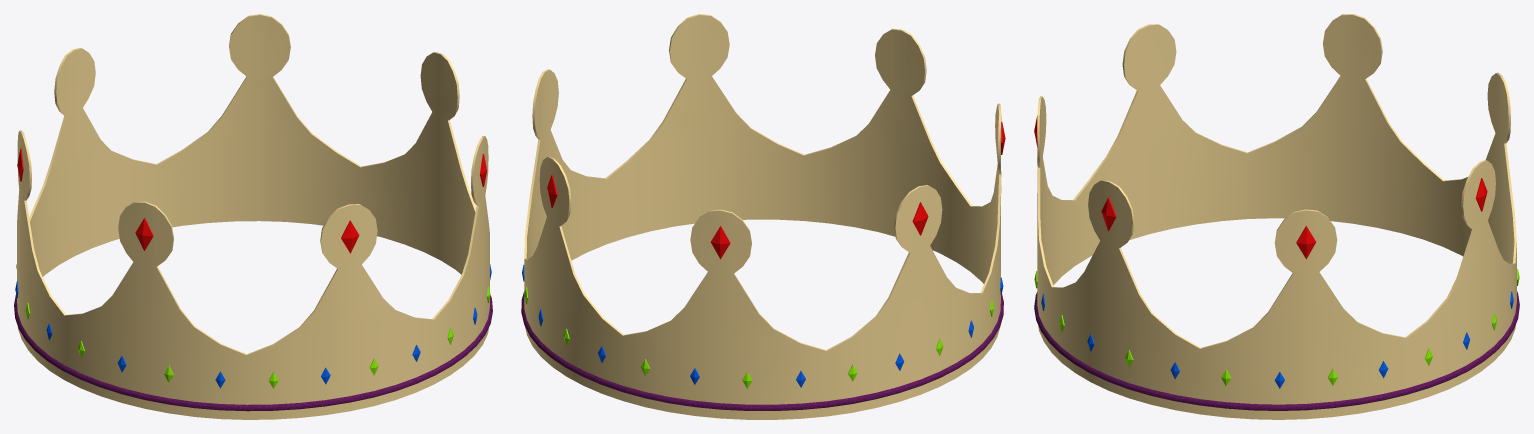
Rendered from crown.fbx.
3 views of the same model, side by side, from view 1: azimuth 30°, elevation 25°; view 2: azimuth 150°, elevation 25°; view 3: azimuth 270°, elevation 25° (orthographic).
Parts seen in each view (by area): view 1: Plane; view 2: Plane; view 3: Plane.
Boxes of the visible parts, x1,y1,x2,y2 form: Plane: [14, 14, 492, 419]; Plane: [521, 14, 1005, 419]; Plane: [1034, 14, 1519, 419].
Bounding box in the file's own units: 202 × 95.99 × 202.
